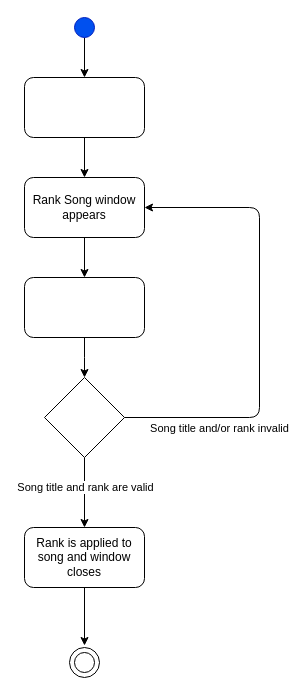
This 307x695 diagram has some shape labels left out. Here are the shapes that lost their labels. From the top down, the centre of each, then its label:
[84,107]: Rank Song button is pressed
[84,307]: User enters song title and rank from 1-3
